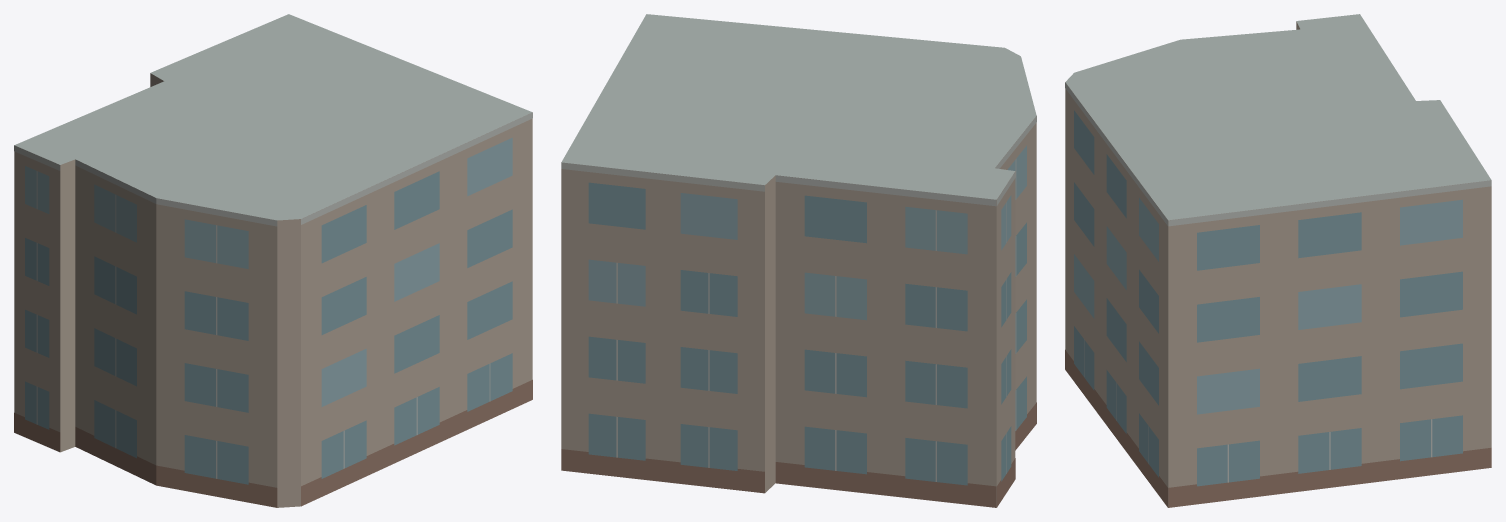
The model's file is survey-upis-32614159.glb.
3 views of the same model, side by side, from view 1: azimuth 30°, elevation 25°; view 2: azimuth 150°, elevation 25°; view 3: azimuth 270°, elevation 25° (orthographic). The views are drawn at different scales.
Visible parts, largest first — view 1: survey-upis-32614159.tmp; view 2: survey-upis-32614159.tmp; view 3: survey-upis-32614159.tmp.
Part boxes in pixels (box(x1,y1,x2,y2)): survey-upis-32614159.tmp: box(14, 14, 532, 507); survey-upis-32614159.tmp: box(561, 14, 1036, 507); survey-upis-32614159.tmp: box(1065, 14, 1491, 507).
Size of the model in its own units: 17.71 by 11.5 by 15.47.
